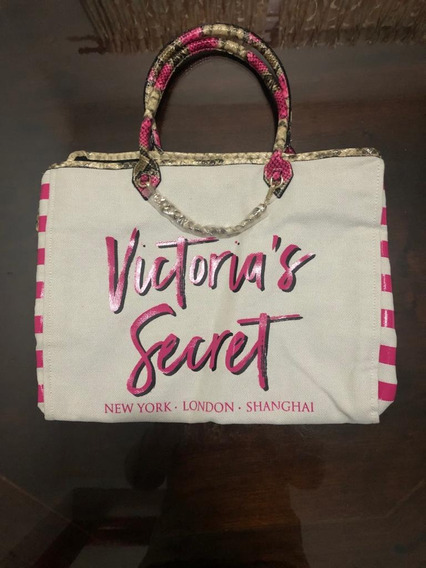cartera: (35, 26, 399, 426)
